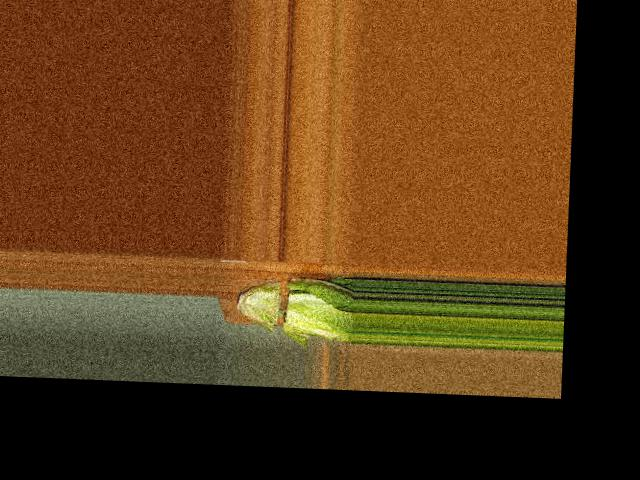lettuce: (237, 268, 353, 345)
